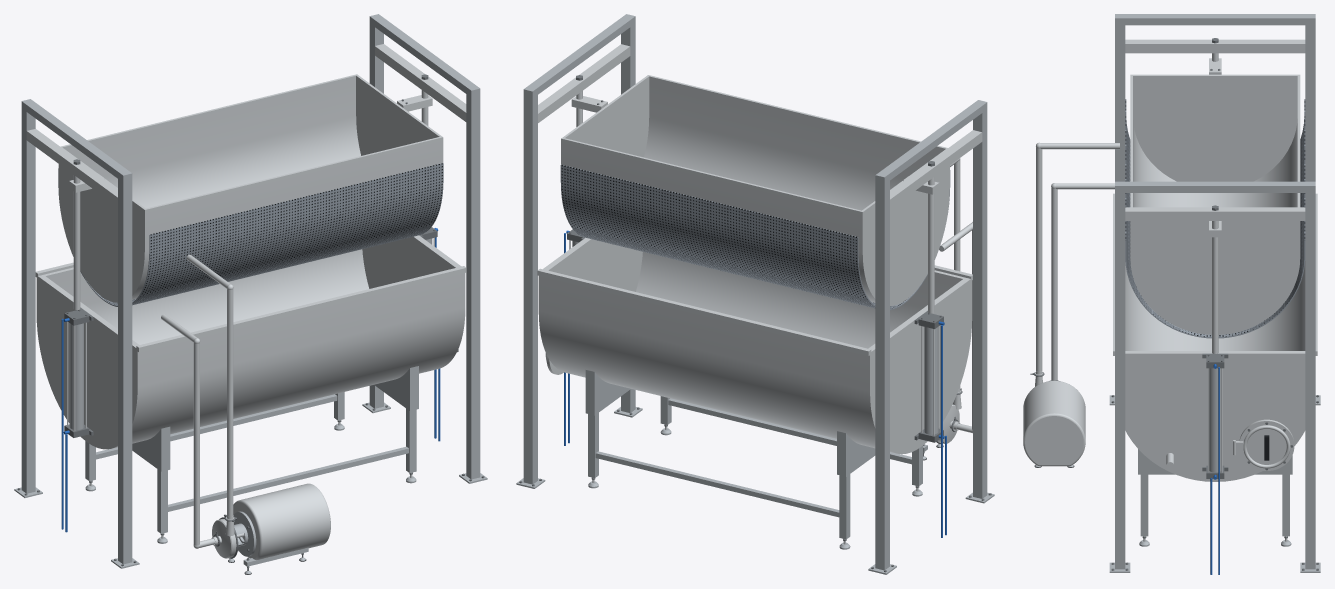
Rendered from schulenburgwanne.glb.
3 renders of one model, left to right at view 1: azimuth 30°, elevation 25°; view 2: azimuth 150°, elevation 25°; view 3: azimuth 270°, elevation 25°, orthographic. The views are drawn at different scales.
Visible parts, largest first — view 1: quarkwannenmantel, molkenwannenschale, siebschale, quarkwannenmantel_stirn_a, molkenwannenschale_stirn_a, portalstuetze_1_-1, portalstuetze_-1_-1, portalstuetze_-1_1, pumpe_verkleidung, quarkwannenmantel_stirn_b, molkenwannenschale_stirn_b, quarkwannenrand_-1 (+17 smaller); view 2: quarkwannenmantel, molkenwannenschale, siebschale, quarkwannenmantel_stirn_a, molkenwannenschale_stirn_a, portalstuetze_-1_1, portalstuetze_1_1, portalstuetze_-1_-1, quarkwannenmantel_stirn_b, molkenwannenschale_stirn_b, quarkwannenrand_1, laengsstrebe_1 (+13 smaller); view 3: quarkwannenmantel_stirn_b, molkenwannenschale_stirn_a, molkenwannenschale_stirn_b, quarkwannenmantel, molkenwannenschale, pumpe_verkleidung, portalstuetze_1_1, portalstuetze_1_-1, schlitten_-1, siebschale, schlitten_1, portaltraeger_-1 (+17 smaller).
Part boxes in pixels (x1,y1,x2,y2): quarkwannenmantel: [44, 249, 459, 443]; molkenwannenschale: [61, 75, 440, 299]; siebschale: [58, 163, 443, 306]; quarkwannenmantel_stirn_a: [36, 275, 143, 449]; molkenwannenschale_stirn_a: [58, 146, 146, 302]; portalstuetze_1_-1: [466, 85, 480, 479]; portalstuetze_-1_-1: [118, 169, 132, 564]; portalstuetze_-1_1: [21, 99, 35, 493]; pumpe_verkleidung: [233, 483, 330, 559]; quarkwannenmantel_stirn_b: [362, 235, 465, 369]; molkenwannenschale_stirn_b: [355, 74, 443, 163]; quarkwannenrand_-1: [136, 266, 466, 352]; quarkwannenmantel: [544, 252, 964, 448]; molkenwannenschale: [563, 75, 946, 302]; siebschale: [560, 164, 950, 310]; quarkwannenmantel_stirn_a: [864, 277, 972, 454]; molkenwannenschale_stirn_a: [860, 148, 949, 305]; portalstuetze_-1_1: [875, 171, 889, 570]; portalstuetze_1_1: [523, 86, 537, 484]; portalstuetze_-1_-1: [973, 100, 987, 498]; quarkwannenmantel_stirn_b: [538, 237, 642, 373]; molkenwannenschale_stirn_b: [561, 75, 649, 164]; quarkwannenrand_1: [537, 268, 871, 355]; laengsstrebe_1: [595, 451, 839, 517]; quarkwannenmantel_stirn_b: [1125, 351, 1305, 481]; molkenwannenschale_stirn_a: [1130, 74, 1300, 181]; molkenwannenschale_stirn_b: [1130, 221, 1300, 334]; quarkwannenmantel: [1125, 261, 1305, 350]; molkenwannenschale: [1130, 76, 1300, 207]; pumpe_verkleidung: [1023, 380, 1085, 466]; portalstuetze_1_1: [1305, 181, 1315, 569]; portalstuetze_1_-1: [1115, 181, 1125, 569]; schlitten_-1: [1125, 39, 1305, 53]; siebschale: [1125, 99, 1305, 338]; schlitten_1: [1125, 207, 1305, 220]; portaltraeger_-1: [1115, 14, 1315, 25].
Size of the model in its own units: 3.32 by 3.3 by 2.31.
Materials: 8 (1 with a texture image).
